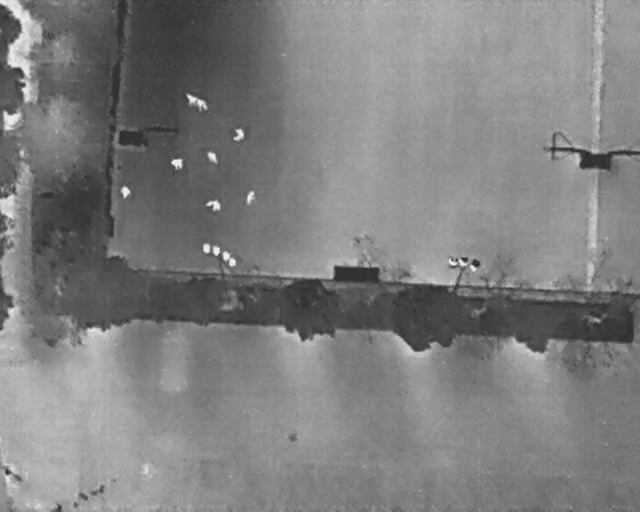Person: (179, 88, 202, 110), (193, 96, 211, 115), (243, 189, 257, 208), (204, 199, 222, 213), (232, 127, 246, 143), (170, 156, 183, 171), (206, 151, 219, 165), (120, 184, 131, 200)
